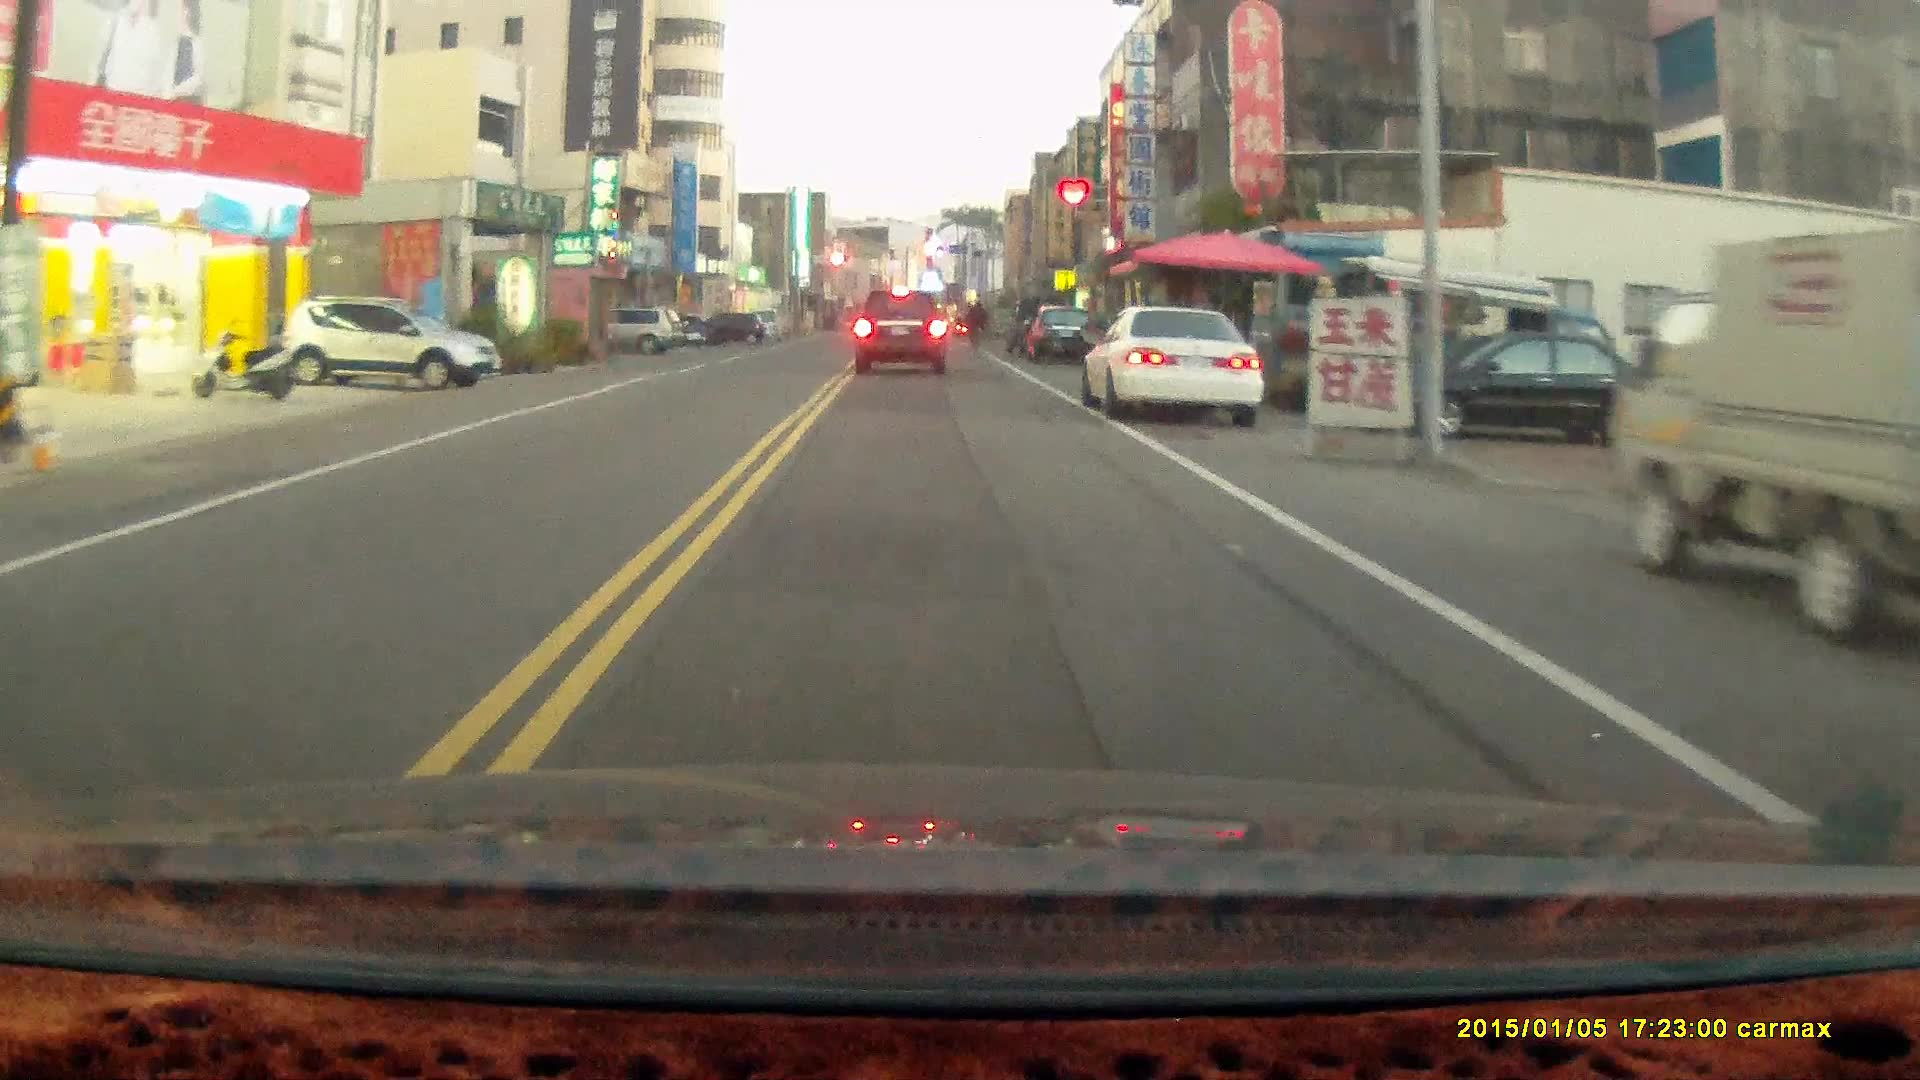rider: (967, 296, 988, 346)
vehicle: (1618, 224, 1920, 659), (1363, 324, 1686, 450), (1088, 300, 1268, 427), (274, 295, 498, 392), (851, 285, 951, 376), (592, 303, 688, 352), (1027, 304, 1100, 360)
